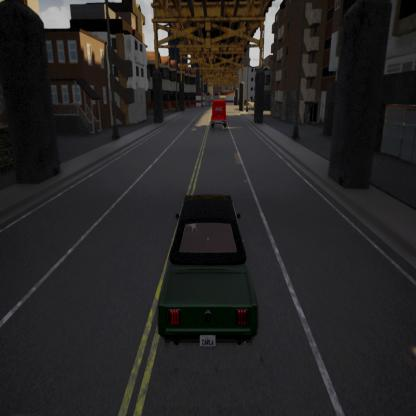Cars: (156, 196, 260, 351), (209, 95, 226, 132)
